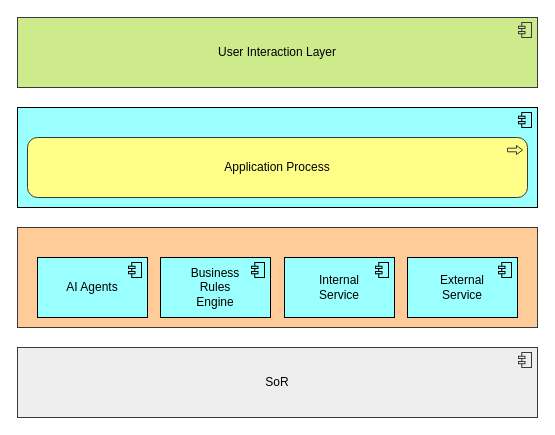
Some shapes in this 555 by 435 pixel diagram are drawn without their labels. The box of each missing label's shape, as (x1, y1, x2, y2) in pixels:
Orchestrator: (16, 106, 538, 208)
Service Layer: (16, 226, 538, 328)
